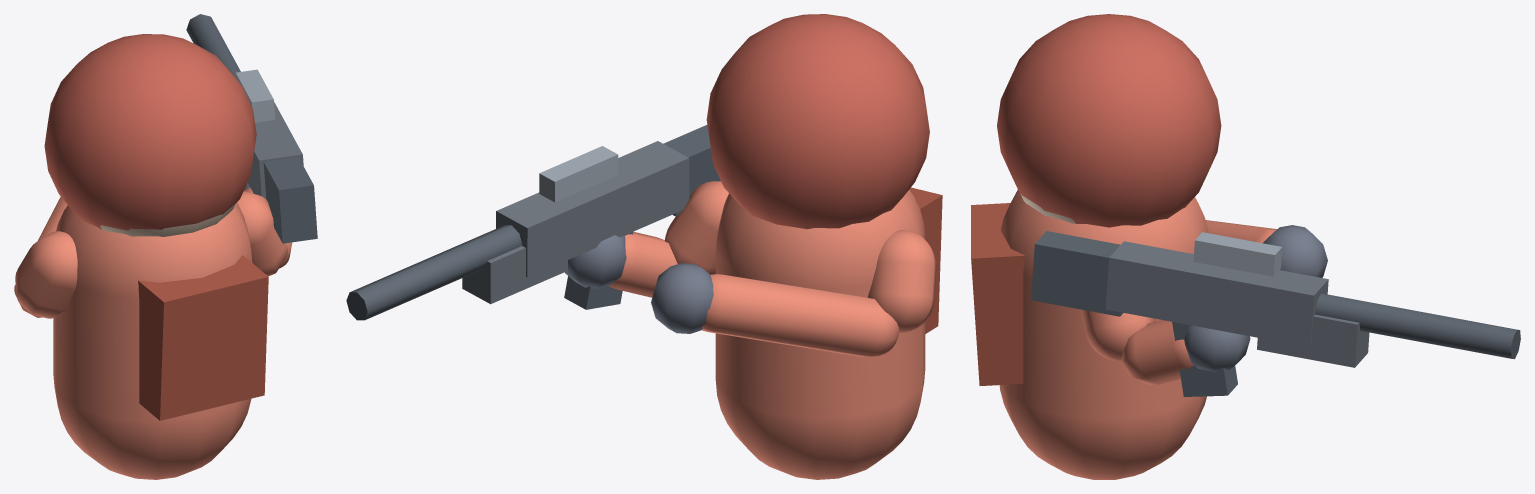
The model's file is red_body.glb.
3 renders of one model, left to right at view 1: azimuth 30°, elevation 25°; view 2: azimuth 150°, elevation 25°; view 3: azimuth 270°, elevation 25°, orthographic. The views are drawn at different scales.
Visible parts, largest first — view 1: red_body; view 2: red_body; view 3: red_body.
Part boxes in pixels (box(x1,y1,x2,y2)): red_body: box(14, 14, 317, 479); red_body: box(346, 14, 942, 479); red_body: box(971, 14, 1520, 479).
Size of the model in its own units: 0.9716 by 1.05 by 1.17.
